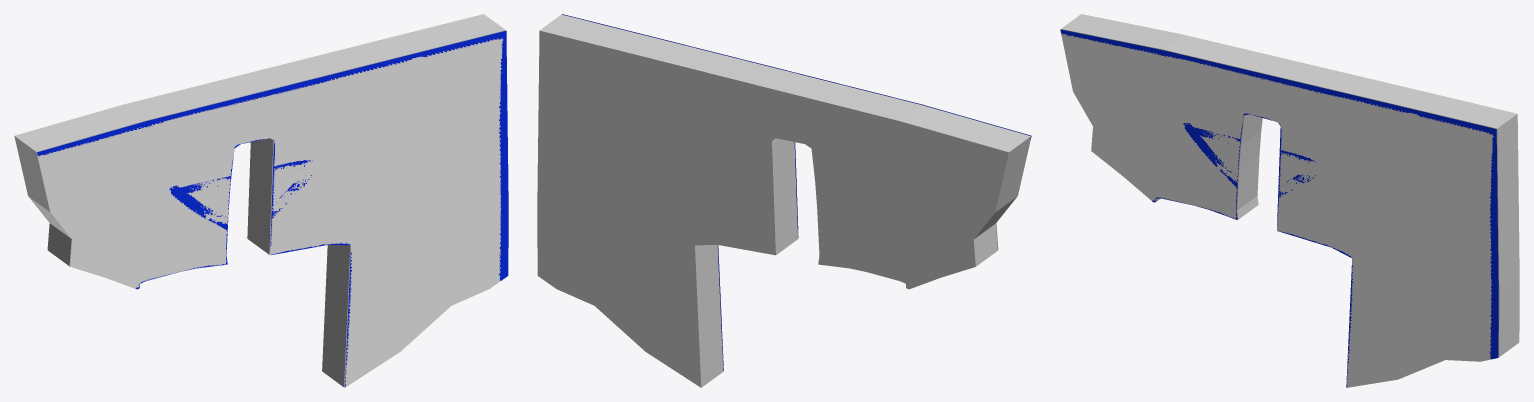
3 renders of one model, left to right at view 1: azimuth 30°, elevation 25°; view 2: azimuth 150°, elevation 25°; view 3: azimuth 330°, elevation 25°, orthographic. The views are drawn at different scales.
Visible parts, largest first — view 1: Out_4_1, Out_4_0; view 2: Out_4_0, Out_4_1; view 3: Out_4_1, Out_4_0.
Boxes of the visible parts, x1=… form: Out_4_1: x1=37, y1=30, x2=508, y2=387; Out_4_0: x1=14, y1=14, x2=505, y2=387; Out_4_0: x1=537, y1=14, x2=1030, y2=387; Out_4_1: x1=562, y1=14, x2=1031, y2=370; Out_4_1: x1=1060, y1=29, x2=1498, y2=387; Out_4_0: x1=1061, y1=14, x2=1519, y2=357.
Size of the model in its own units: 6.19 by 3.98 by 0.515.
Materials: 2 (1 with a texture image).
